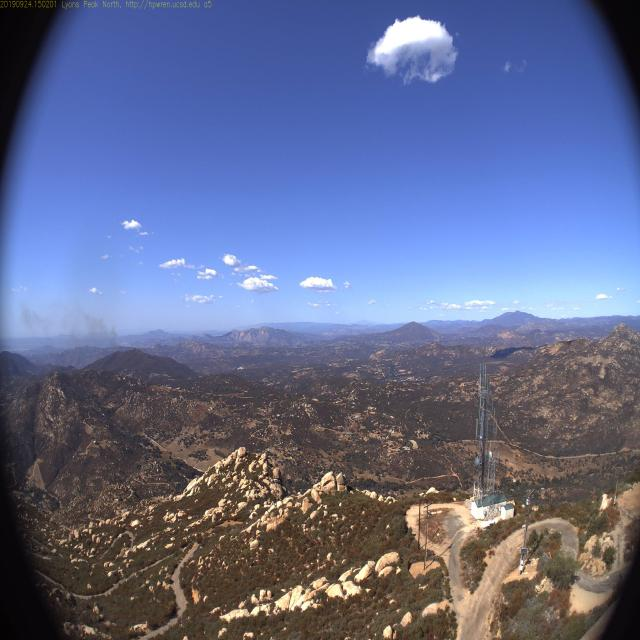smoke: (93, 319, 131, 360)
